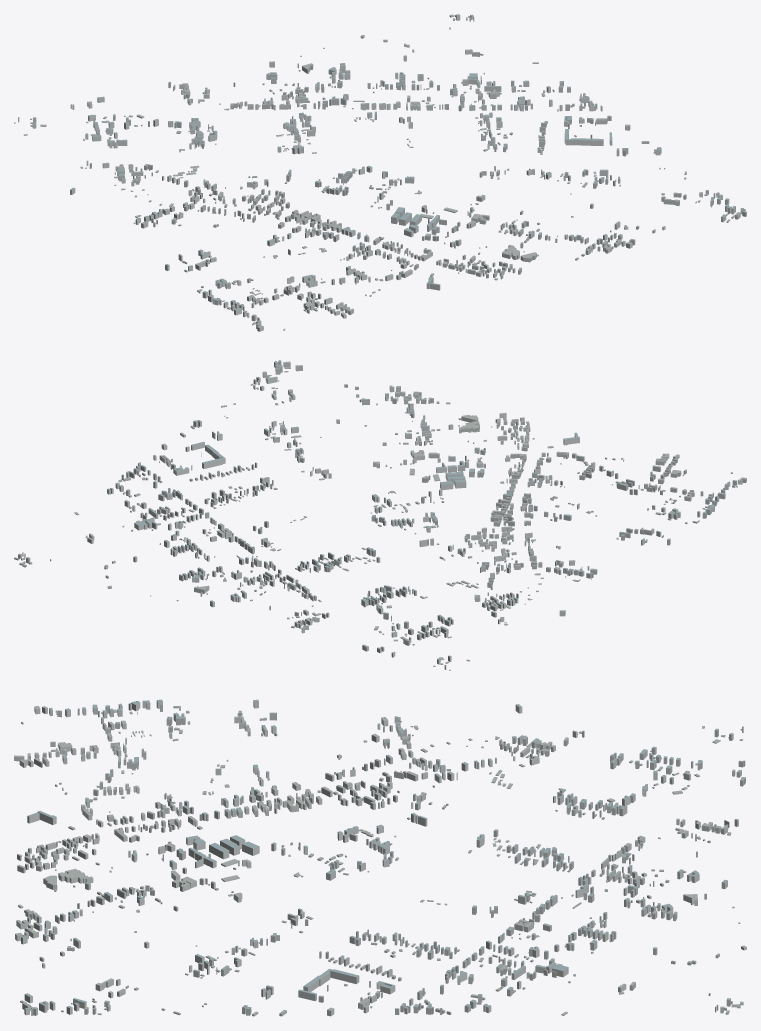
The model's file is far.glb.
3 views of the same model, one above another, from view 1: azimuth 30°, elevation 25°; view 2: azimuth 150°, elevation 25°; view 3: azimuth 270°, elevation 25° (orthographic). The views are drawn at different scales.
Size of the model in its own units: 2099 by 25.25 by 2097.
